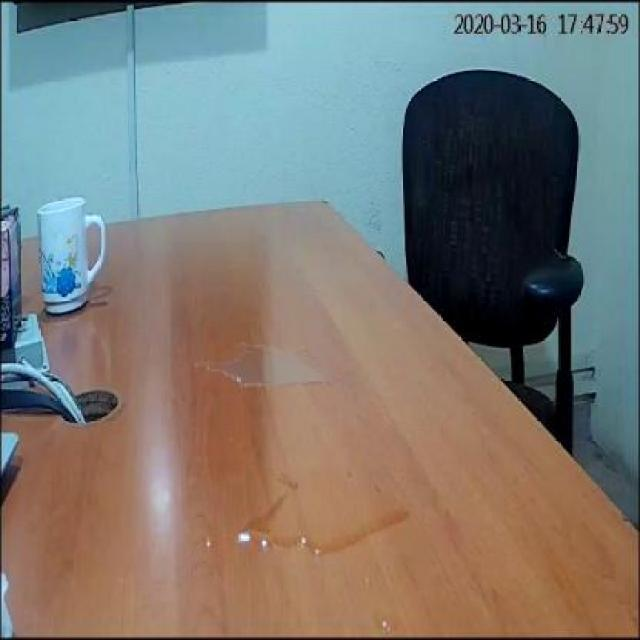spill: (239, 477, 407, 555), (194, 342, 334, 392)
